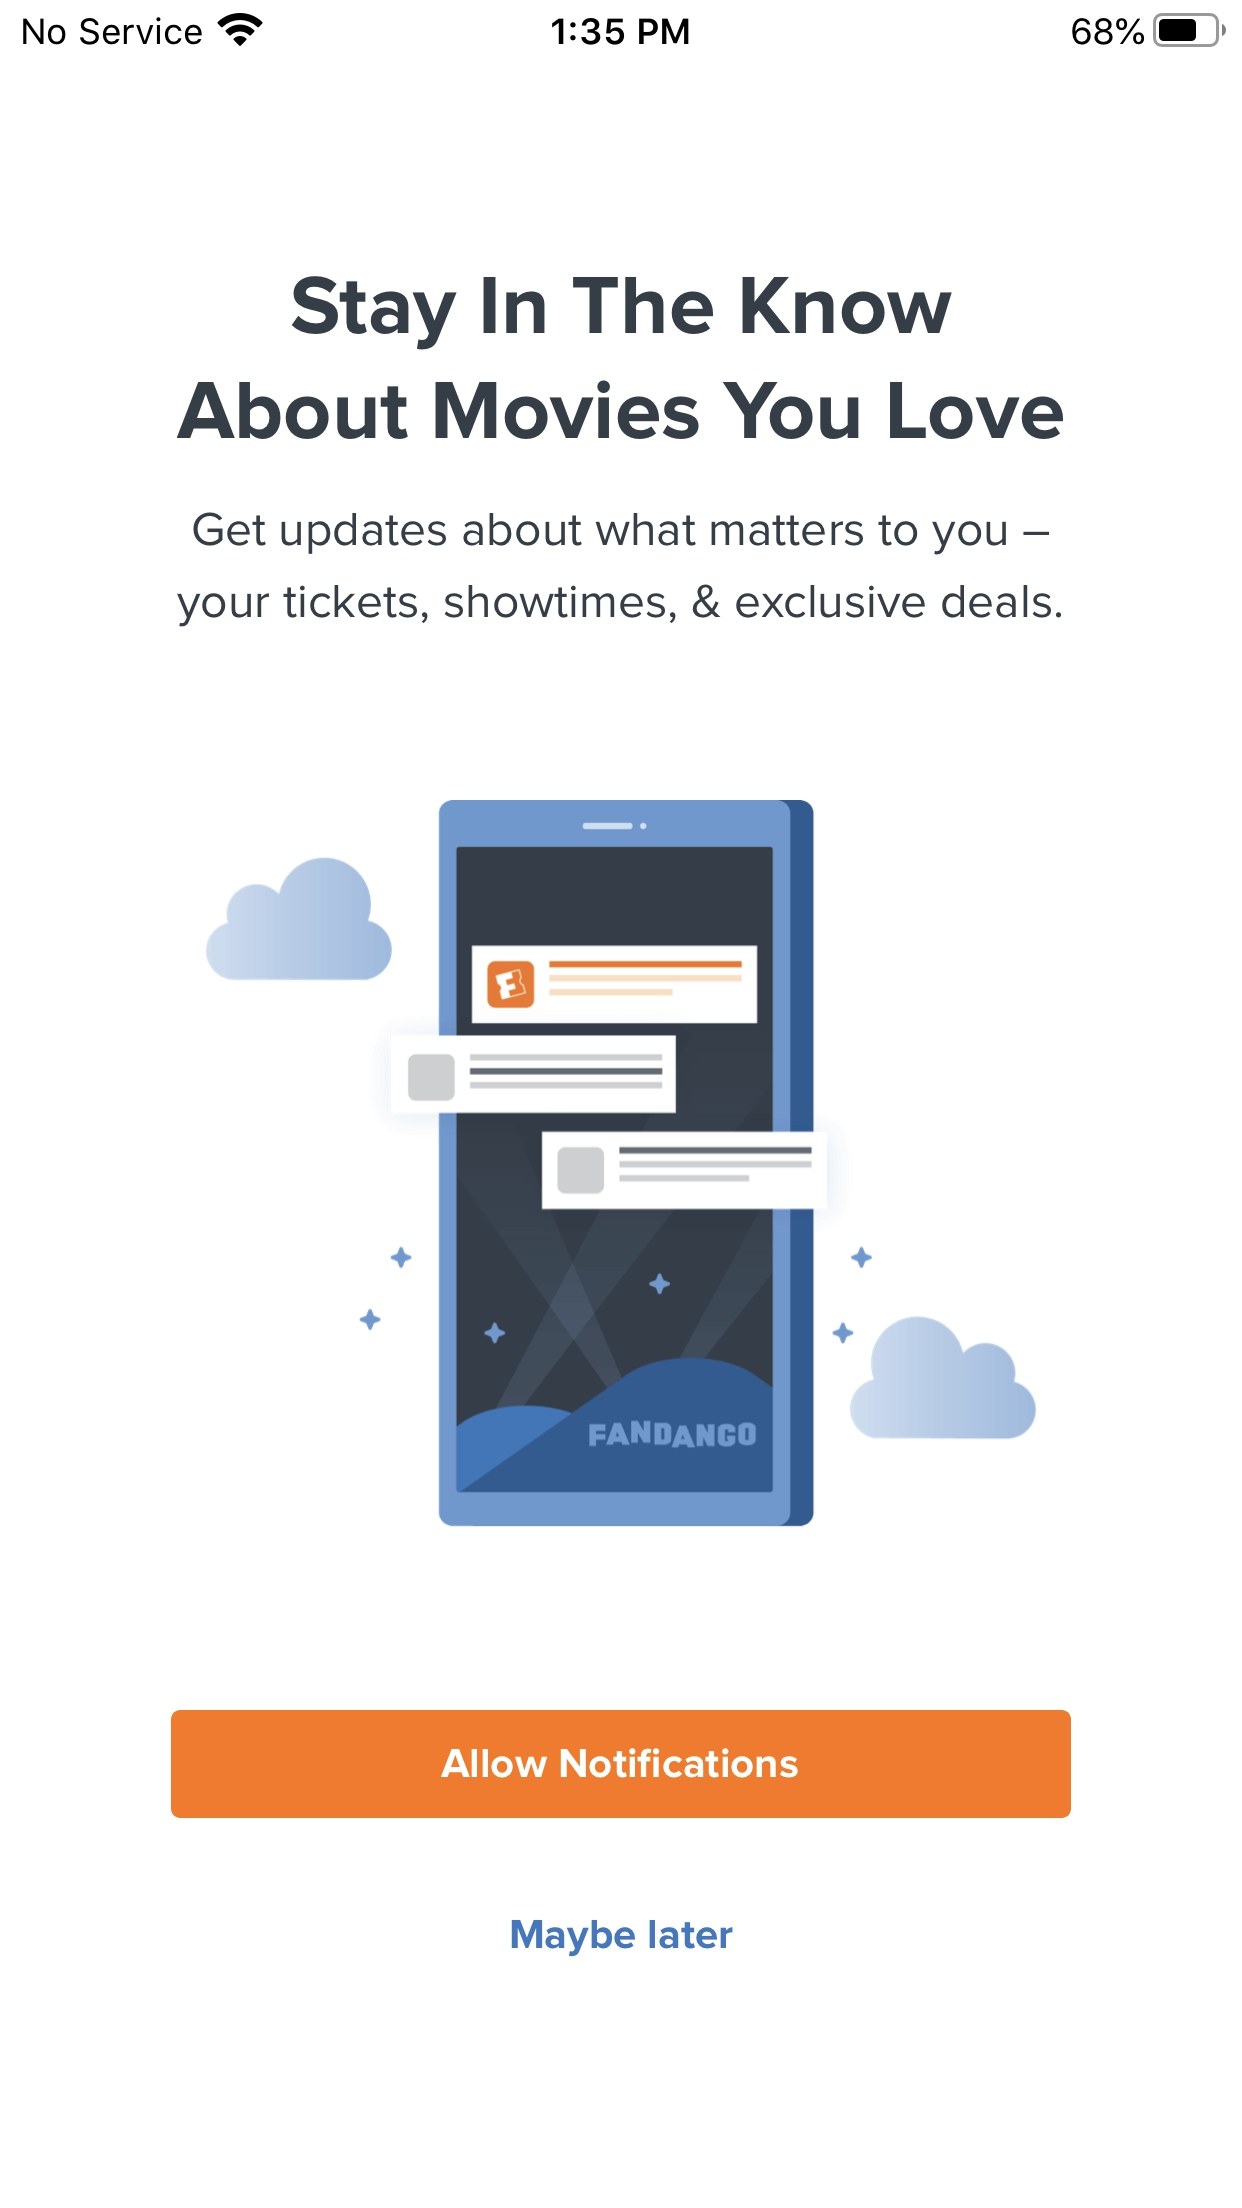Image: (206, 801, 1034, 1529)
Text: (177, 276, 1063, 440), (177, 513, 1062, 626), (511, 1920, 732, 1956)
TextButton: (170, 1711, 1072, 1818)
UpperTaskBar: (2, 2, 1242, 49)
